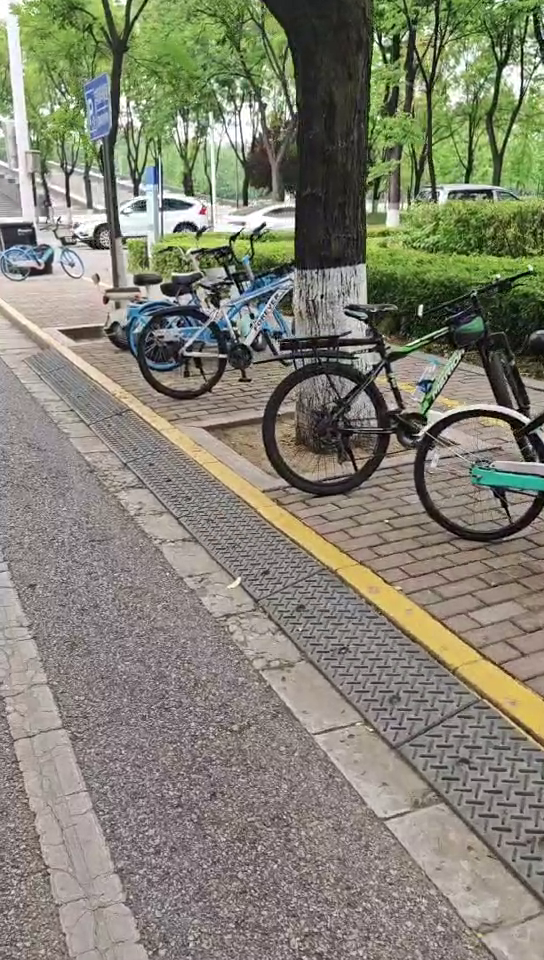others: (272, 310, 529, 475), (146, 272, 328, 396)
shared_bike_haluo: (122, 230, 296, 367), (4, 222, 85, 283)
